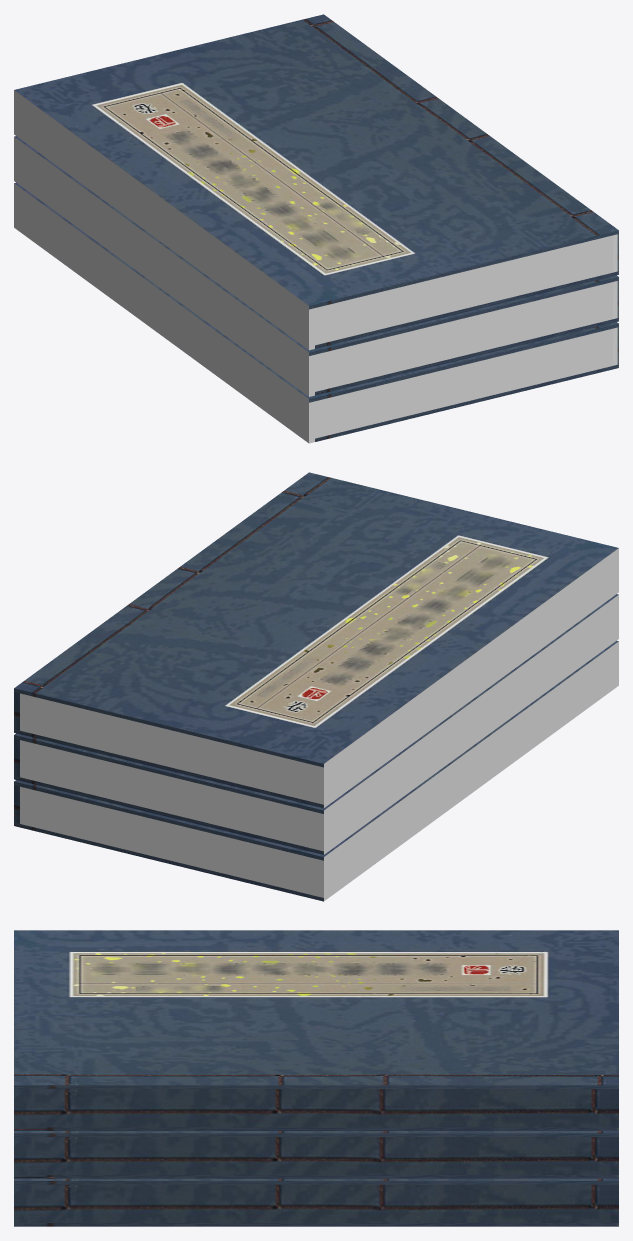
File: QD-清茶桌书.fbx
3 renders of one model, top to bottom at view 1: azimuth 30°, elevation 25°; view 2: azimuth 150°, elevation 25°; view 3: azimuth 270°, elevation 25°, orthographic. The views are drawn at different scales.
Parts seen in each view (by area): view 1: QD-清茶桌书; view 2: QD-清茶桌书; view 3: QD-清茶桌书.
Part boxes in pixels (x1,y1,x2,y2): QD-清茶桌书: (14,14,618,443); QD-清茶桌书: (14,472,618,901); QD-清茶桌书: (14,930,618,1226).
Bounding box in the file's own units: 0.1495 × 0.2465 × 0.0634.
